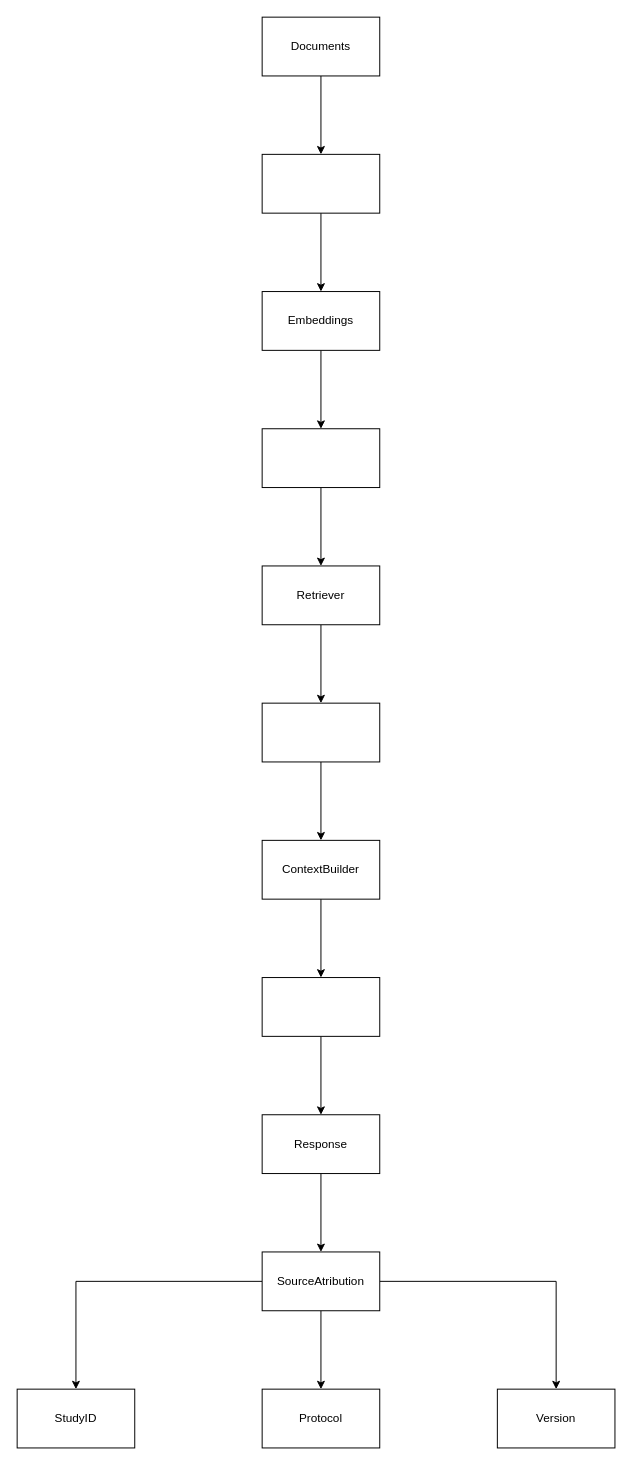
This 632x1465 diagram has some shape labels left out. Each missing label, with the box of its shape:
Chunking: (261, 153, 380, 213)
LLM: (261, 977, 380, 1036)
MetadataFilter: (261, 702, 380, 762)
VectorDB: (261, 428, 380, 488)
